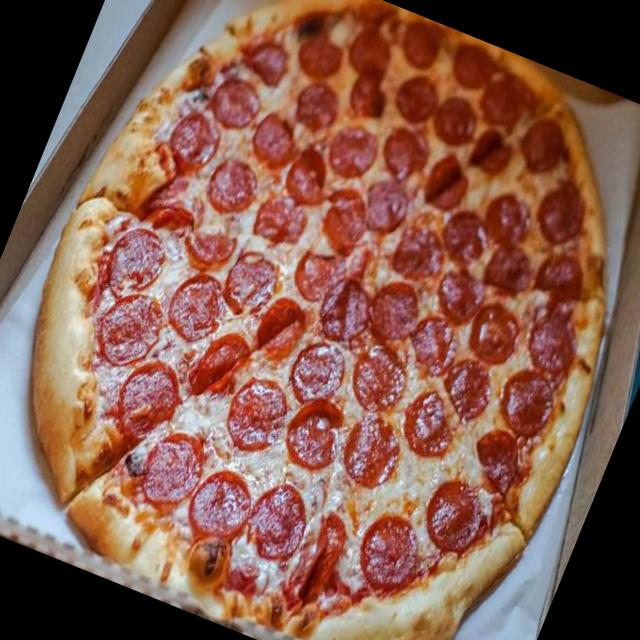pepperoni: (103, 350, 191, 452), (345, 502, 429, 608), (279, 502, 356, 612), (128, 419, 212, 516), (233, 474, 317, 570), (178, 458, 262, 550), (331, 403, 412, 498), (96, 215, 174, 311), (216, 368, 298, 458), (91, 281, 171, 373), (276, 386, 356, 476), (413, 464, 492, 554), (488, 351, 566, 442), (280, 328, 356, 414), (184, 322, 256, 408), (394, 384, 469, 466), (342, 334, 417, 414), (243, 287, 314, 371), (314, 264, 384, 347), (520, 302, 588, 384), (528, 172, 595, 254), (462, 416, 530, 496), (362, 270, 428, 350), (432, 349, 502, 422), (168, 265, 234, 340), (200, 146, 266, 220), (464, 294, 530, 366), (470, 69, 538, 138), (402, 312, 466, 385), (322, 115, 386, 186), (223, 243, 286, 314), (416, 148, 476, 220), (388, 65, 452, 132), (387, 216, 450, 284), (478, 184, 540, 253), (246, 110, 306, 180), (512, 111, 574, 177), (288, 236, 350, 302), (427, 259, 488, 326), (377, 120, 438, 186), (478, 235, 538, 300), (206, 68, 266, 132), (424, 86, 480, 154), (433, 204, 492, 268), (253, 188, 310, 254), (532, 246, 590, 310), (168, 108, 226, 172), (314, 184, 370, 250), (184, 208, 243, 270), (148, 176, 210, 234), (359, 170, 416, 233), (392, 13, 448, 77), (291, 24, 348, 84), (340, 67, 395, 127), (279, 148, 334, 208), (345, 20, 399, 80), (292, 76, 344, 136), (245, 28, 295, 86), (466, 122, 517, 178), (450, 42, 497, 92)
pizza: (28, 0, 611, 640)
